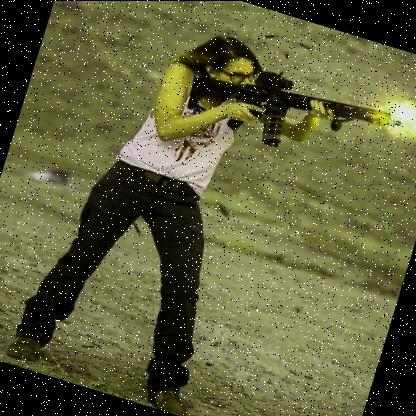rifle: (177, 39, 411, 187)
